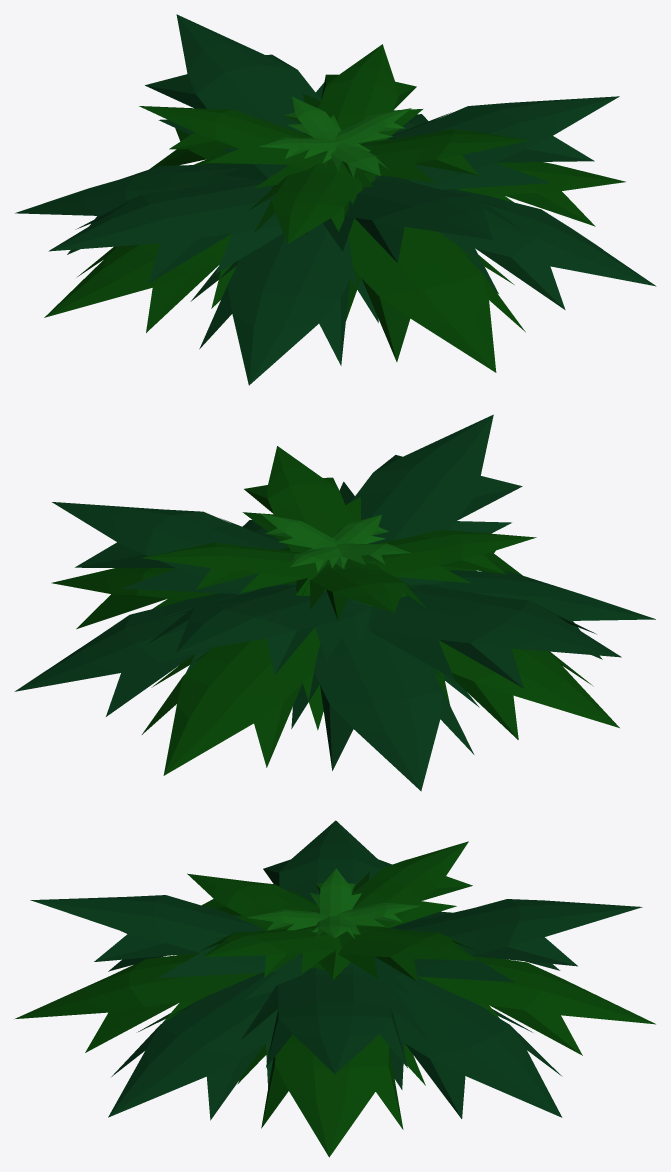
File: Fern-Bush-1.fbx
The picture shows the model from 3 angles, top to bottom: view 1: azimuth 30°, elevation 25°; view 2: azimuth 150°, elevation 25°; view 3: azimuth 270°, elevation 25°; orthographic projection. The views are drawn at different scales.
Visible parts, largest first — view 1: Icosphere.003; view 2: Icosphere.003; view 3: Icosphere.003.
Part boxes in pixels (<box>): Icosphere.003: <box>15,14,656,385</box>; Icosphere.003: <box>14,414,655,791</box>; Icosphere.003: <box>14,820,655,1157</box>.
Bounding box in the file's own units: 258 × 57.31 × 258.
